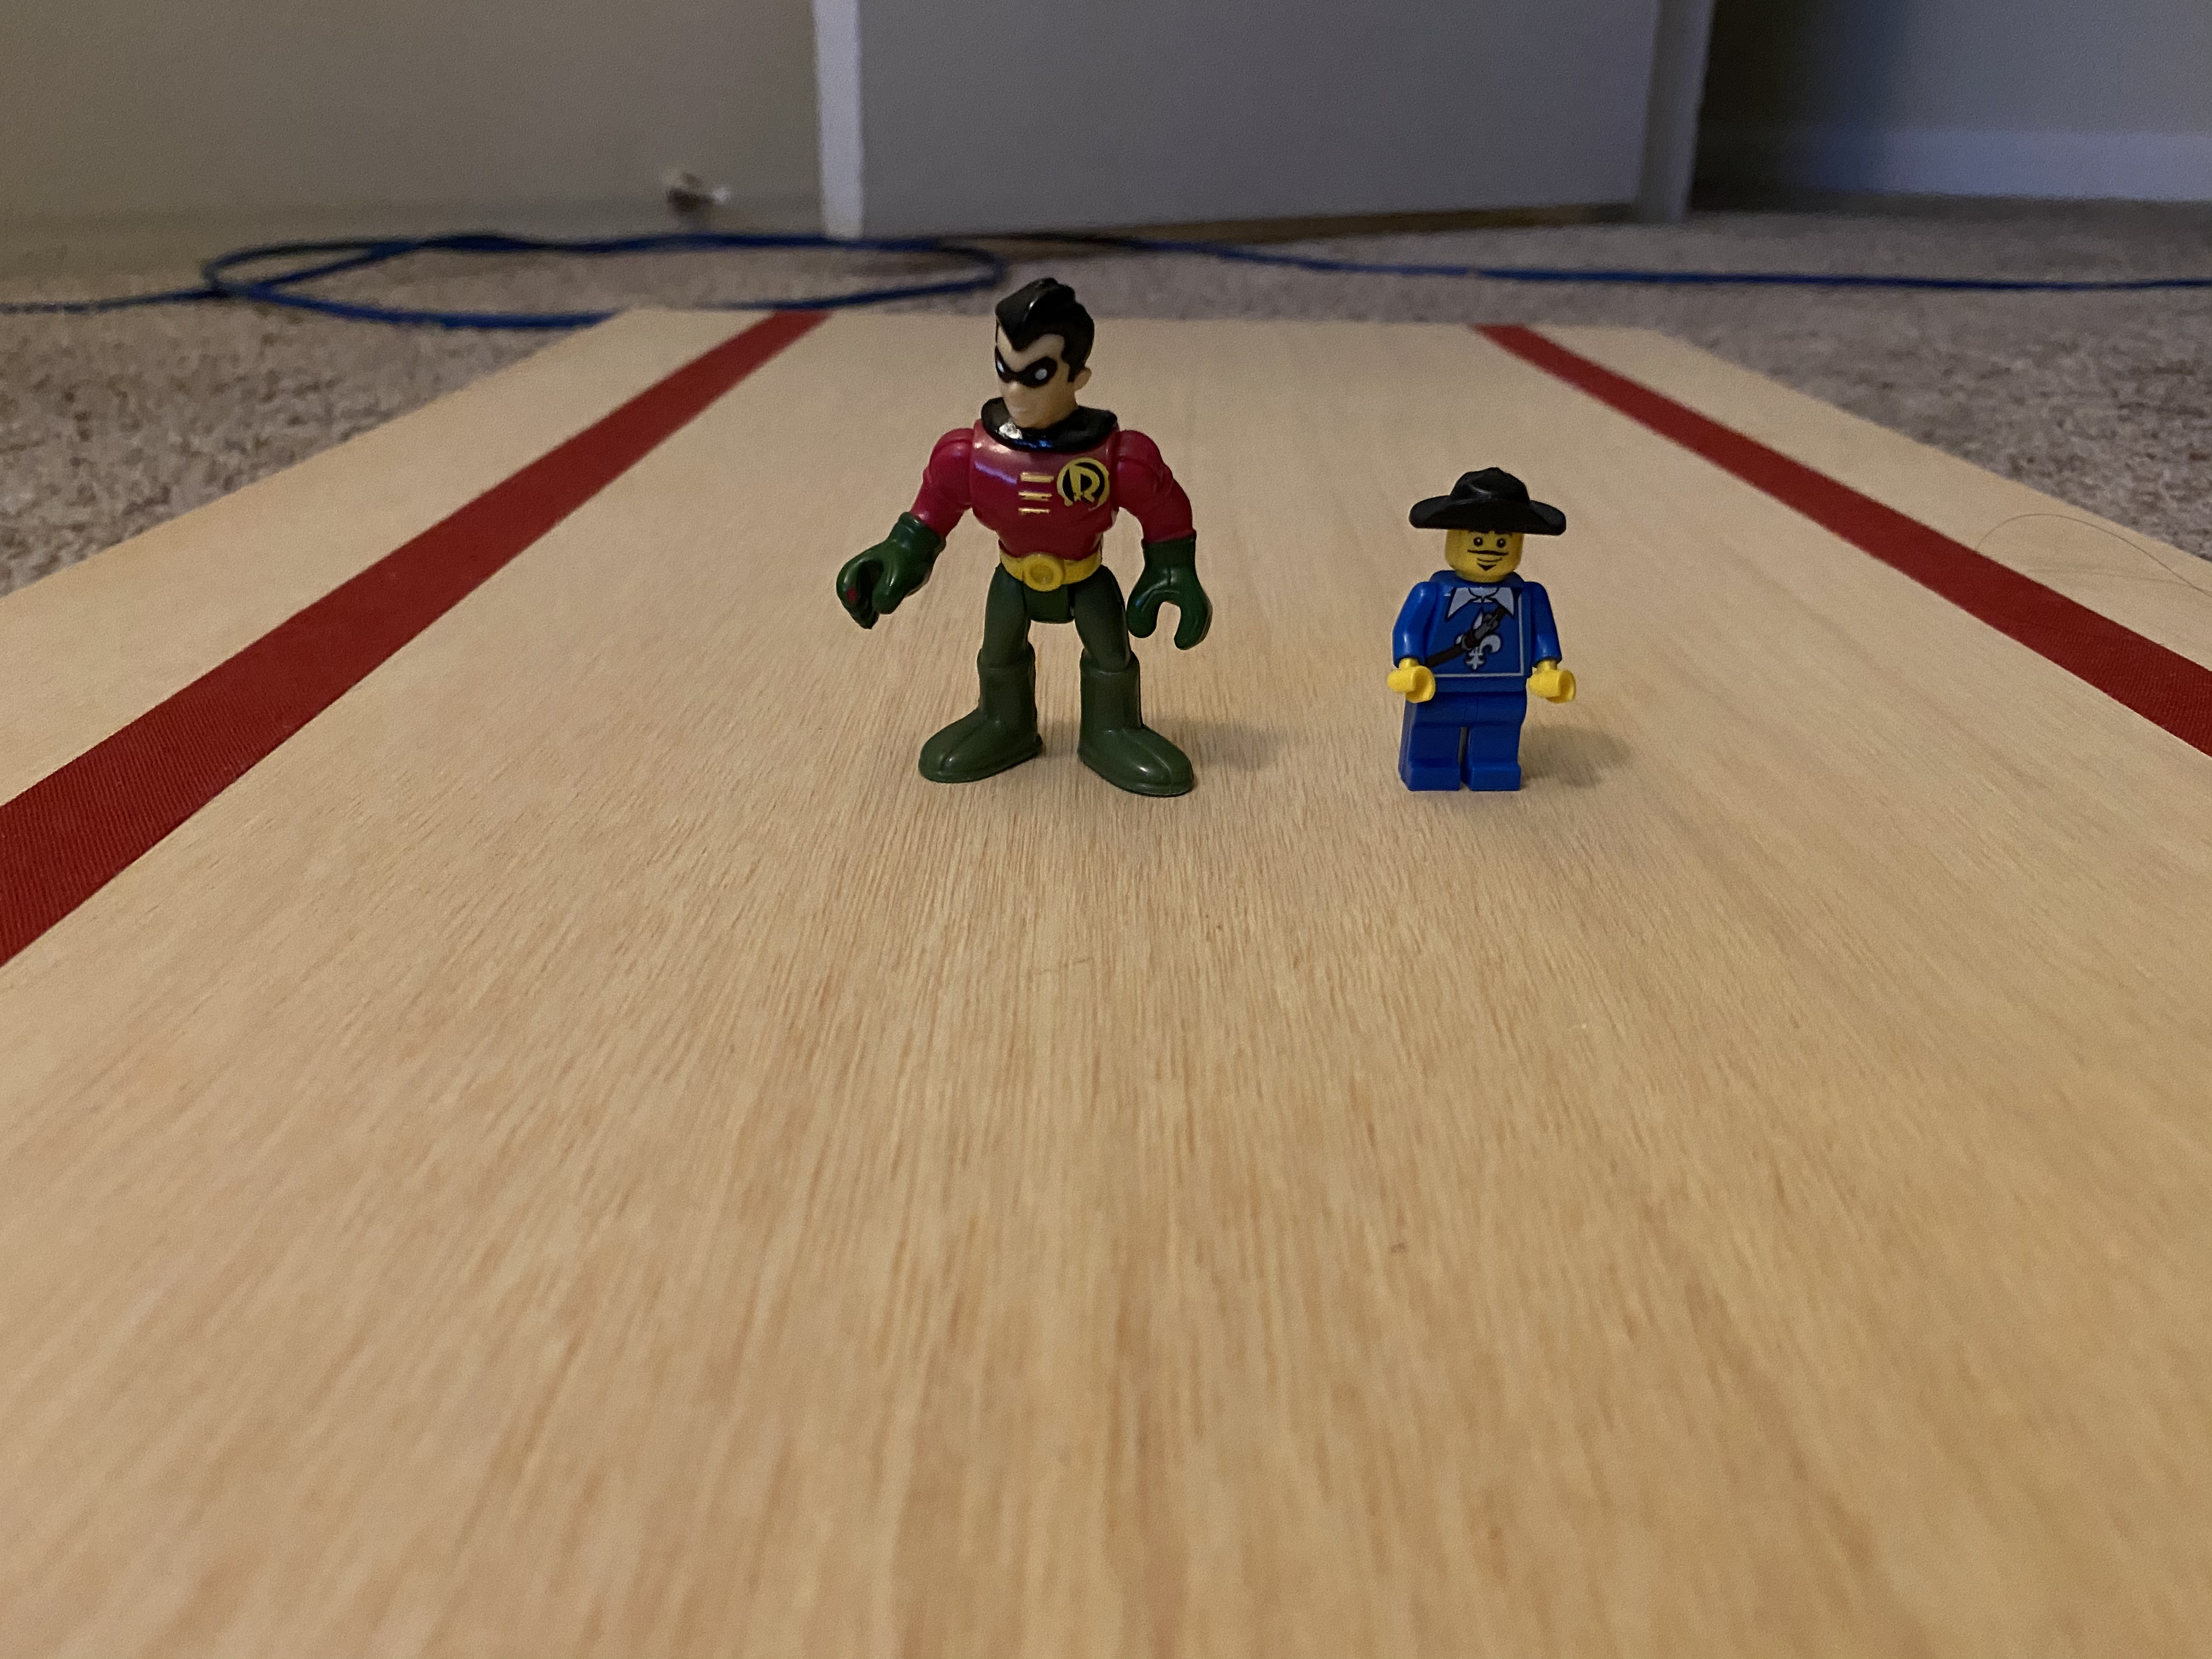Person: (818, 272, 1271, 830), (1348, 468, 1600, 802)
